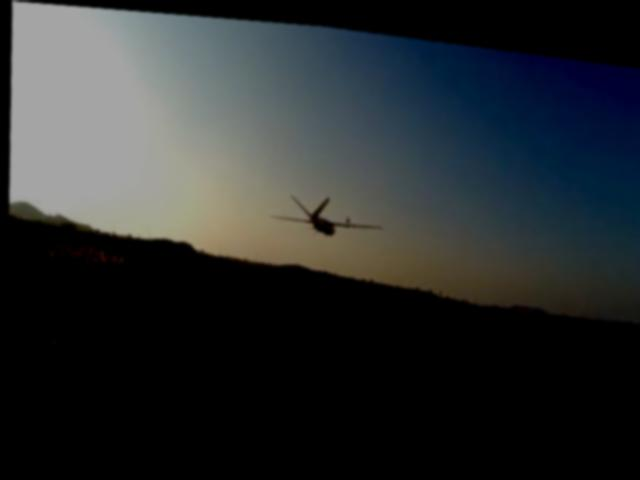uav: (263, 175, 388, 247)
